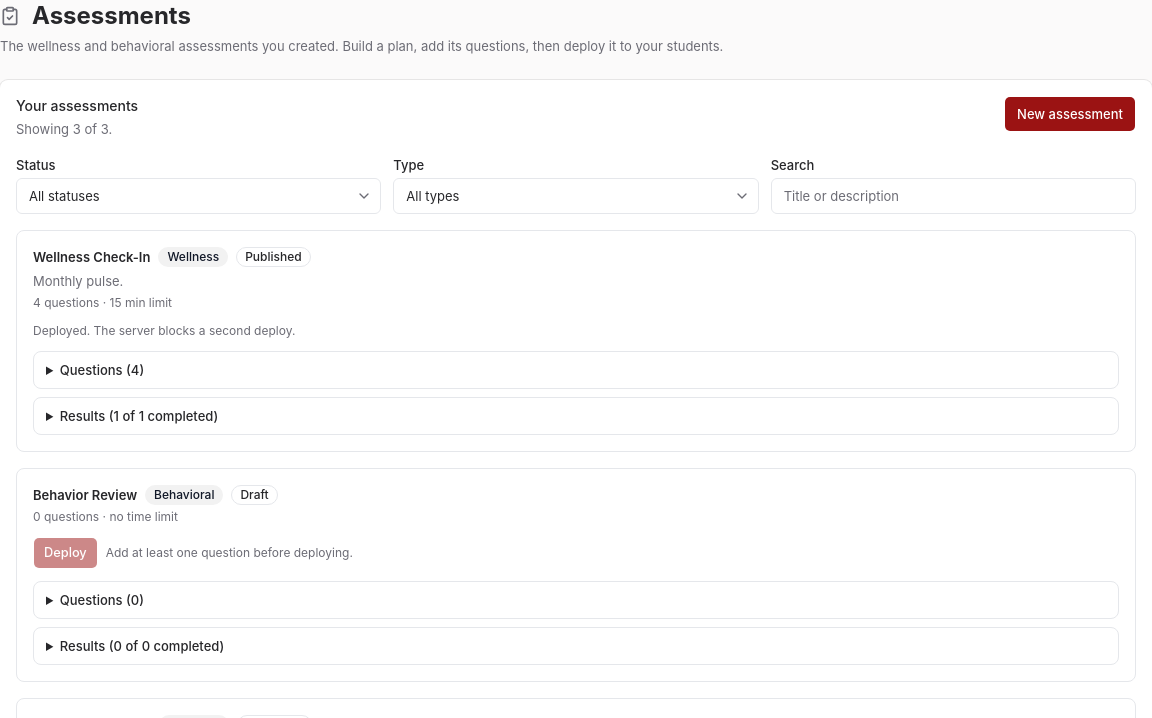
Test: assessment authoring › only offers students with guidance activity as targets
expect the heading "Wellness Check-In" is shown: met, box x1=33 y1=247 x2=150 y2=267
Click the button "New assessment".
click(1070, 114)  # box x1=1004 y1=96 x2=1136 y2=132
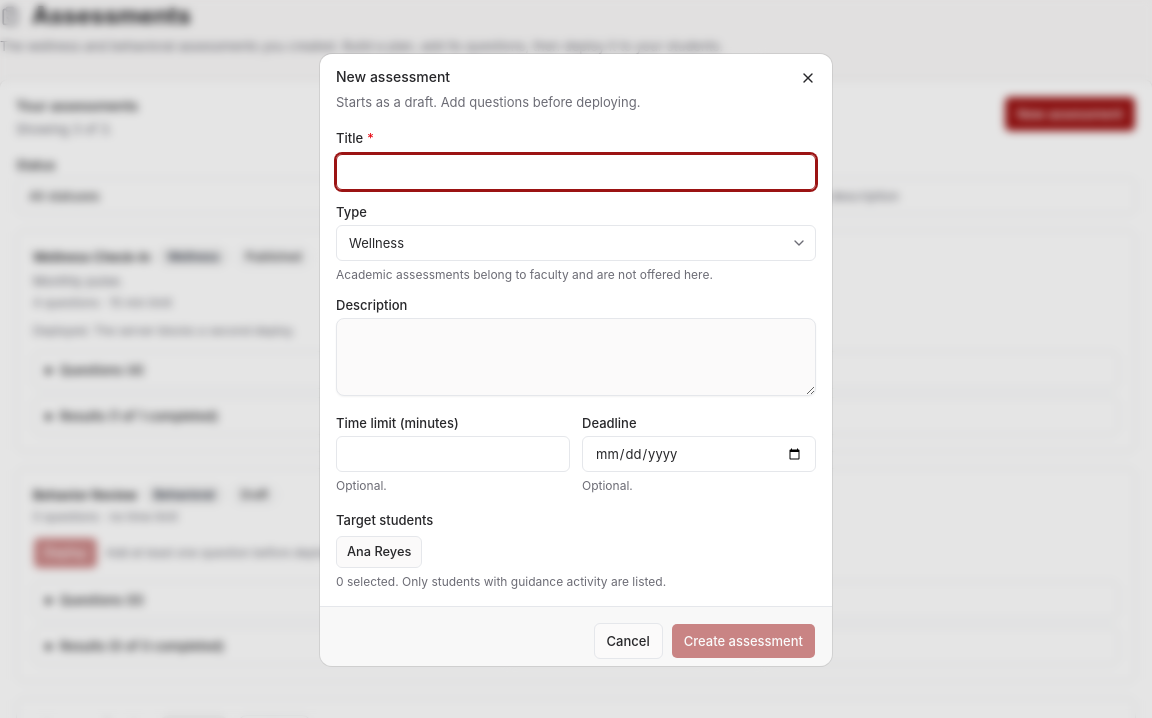
expect the button "Ana Reyes" is shown: met, box x1=336 y1=536 x2=422 y2=568
expect the text "0 selected. Only students with guidance activity are listed." is shown: met, box x1=336 y1=574 x2=666 y2=589
